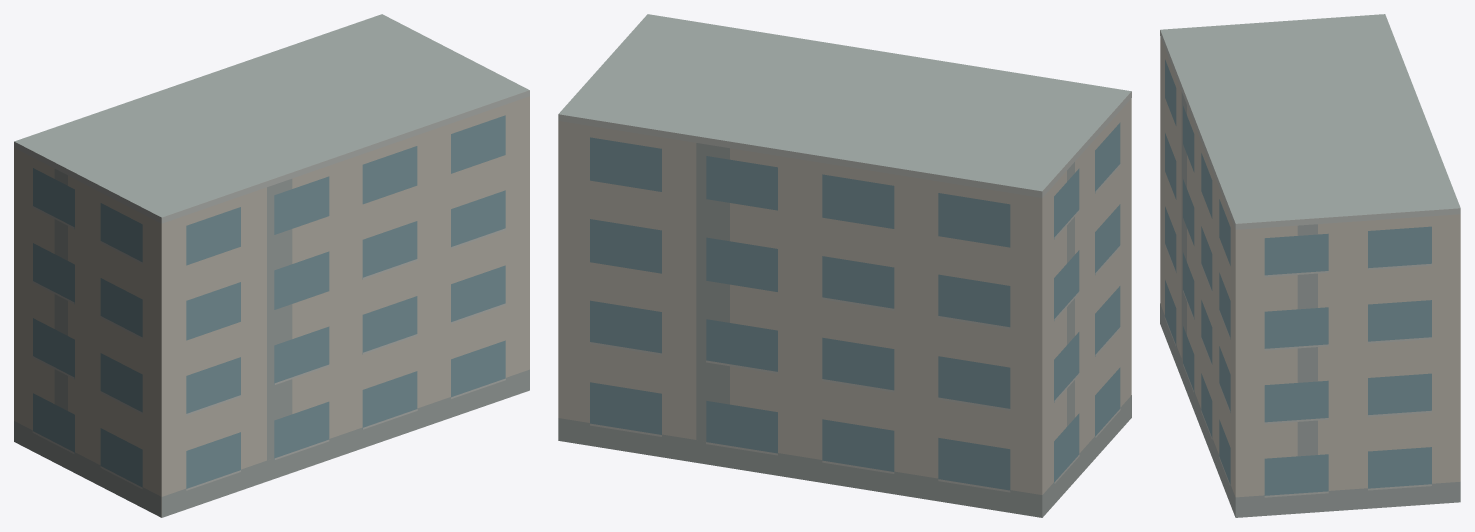
Rendered from residential-fe571d35-6c80-4bcb-a2fc-9f857c1eec1b.glb.
The picture shows the model from 3 angles, left to right: view 1: azimuth 30°, elevation 25°; view 2: azimuth 150°, elevation 25°; view 3: azimuth 270°, elevation 25°; orthographic projection. The views are drawn at different scales.
Visible parts, largest first — view 1: residential-fe571d35-6c80-4bcb-a2fc-9f857c1eec1b.tmp; view 2: residential-fe571d35-6c80-4bcb-a2fc-9f857c1eec1b.tmp; view 3: residential-fe571d35-6c80-4bcb-a2fc-9f857c1eec1b.tmp.
Boxes of the visible parts, x1=… form: residential-fe571d35-6c80-4bcb-a2fc-9f857c1eec1b.tmp: x1=14, y1=14, x2=529, y2=517; residential-fe571d35-6c80-4bcb-a2fc-9f857c1eec1b.tmp: x1=558, y1=14, x2=1131, y2=517; residential-fe571d35-6c80-4bcb-a2fc-9f857c1eec1b.tmp: x1=1160, y1=14, x2=1460, y2=517.
Size of the model in its own units: 18.39 by 12 by 11.13.
